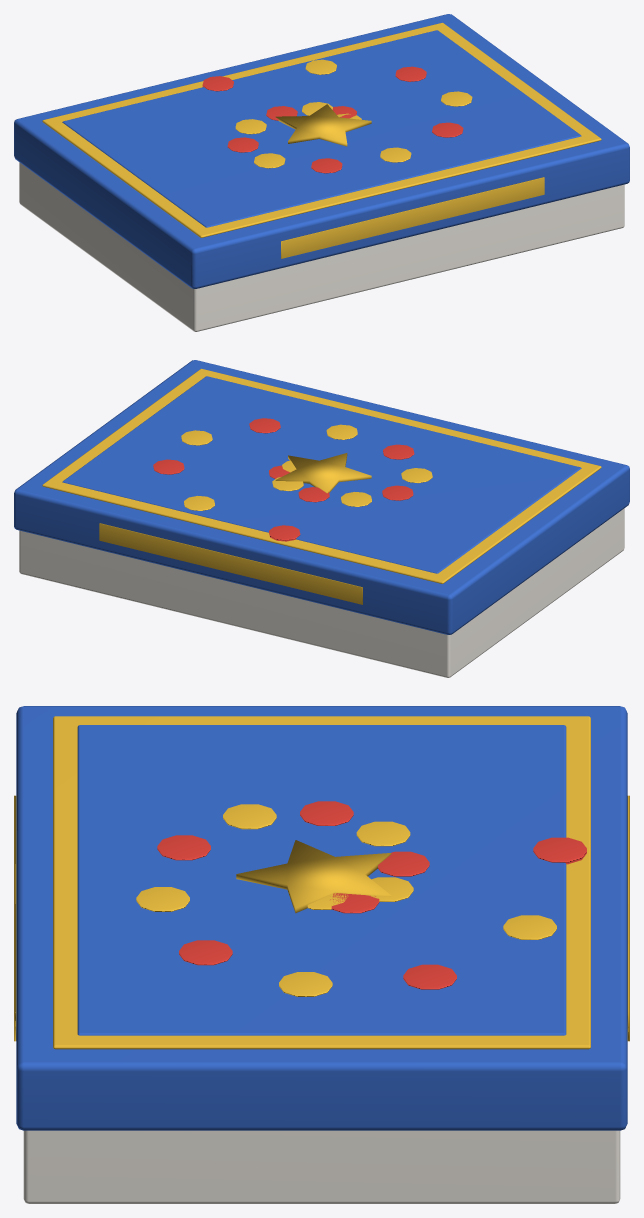
Rendered from toy_gamebox_a.glb.
3 views of the same model, one above another, from view 1: azimuth 30°, elevation 25°; view 2: azimuth 150°, elevation 25°; view 3: azimuth 270°, elevation 25° (orthographic). The views are drawn at different scales.
Visible parts, largest first — view 1: toy_gamebox_a; view 2: toy_gamebox_a; view 3: toy_gamebox_a.
Part boxes in pixels (box(x1,y1,x2,y2)): toy_gamebox_a: box(14, 14, 629, 331); toy_gamebox_a: box(14, 360, 629, 677); toy_gamebox_a: box(14, 706, 629, 1203).
Bounding box in the file's own units: 7 × 1.39 × 5.04.
